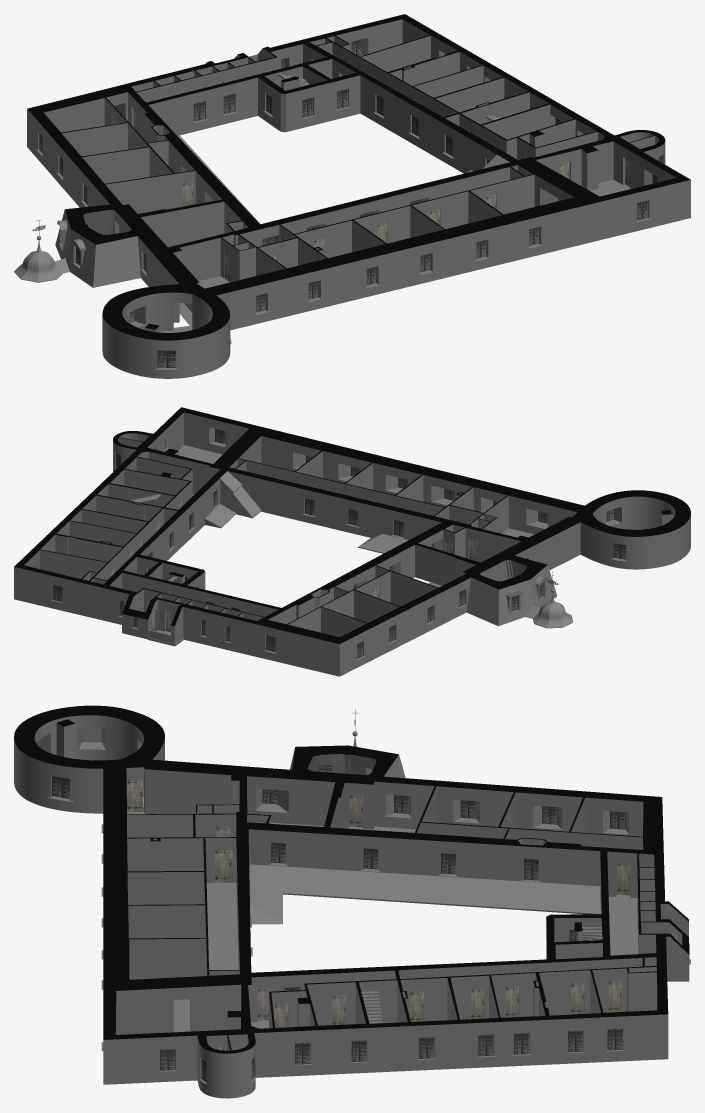
File: 3_STAVS_a.fbx
3 renders of one model, top to bottom at view 1: azimuth 30°, elevation 25°; view 2: azimuth 150°, elevation 25°; view 3: azimuth 270°, elevation 25°, orthographic. The views are drawn at different scales.
Visible parts, largest first — view 1: 3_STAVS, 3_GRIEZUMS, 3_LD, 3_JUMTI, 3_TORNJI, 3_GRIDA; view 2: 3_STAVS, 3_GRIEZUMS, 3_LD, 3_JUMTI, 3_KOKS, 3_TORNJI, 3_GRIDA; view 3: 3_STAVS, 3_GRIEZUMS, 3_LD, 3_JUMTI, 3_GRIDA, 3_KAPNES, 3_KOKS.
Boxes of the visible parts, x1,y1,x2,y2 form: 3_STAVS: (27, 19, 690, 378); 3_GRIEZUMS: (27, 14, 690, 340); 3_LD: (36, 39, 663, 370); 3_JUMTI: (54, 135, 509, 287); 3_TORNJI: (14, 220, 62, 282); 3_GRIDA: (160, 179, 630, 332); 3_STAVS: (14, 412, 690, 676); 3_GRIEZUMS: (14, 407, 690, 643); 3_LD: (33, 428, 627, 660); 3_JUMTI: (205, 471, 556, 626); 3_KOKS: (148, 478, 548, 642); 3_TORNJI: (532, 571, 573, 628); 3_GRIDA: (178, 445, 642, 587); 3_STAVS: (14, 715, 689, 1098); 3_GRIEZUMS: (14, 705, 689, 1053); 3_LD: (47, 765, 690, 1084); 3_JUMTI: (249, 748, 600, 924); 3_GRIDA: (89, 760, 638, 1032); 3_KAPNES: (361, 927, 602, 1023); 3_KOKS: (257, 765, 598, 972).
Size of the model in its own units: 59881 by 5581 by 49232.
